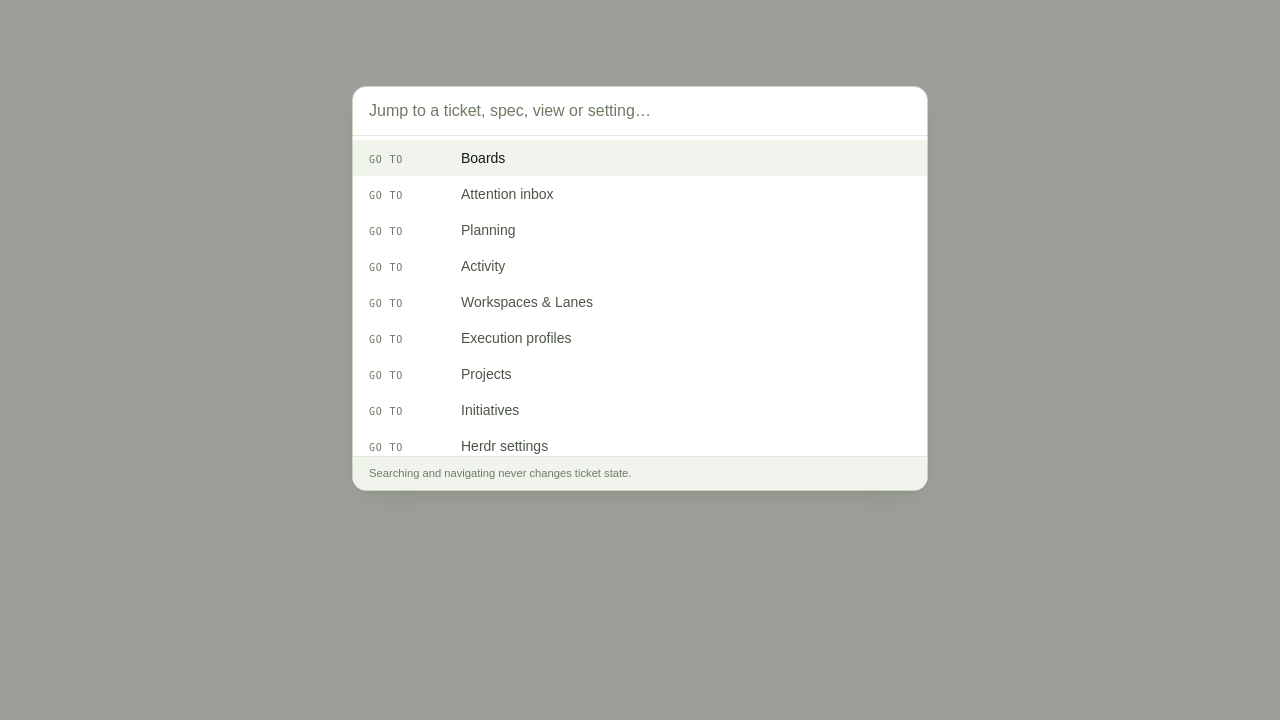
Test: CommandPalette › searches through the palette without issuing commands
This screenshot has width=1280, height=720.
Type "archive" into the search field with test id "palette-query" at (640, 111), box 369,99 -> 911,123
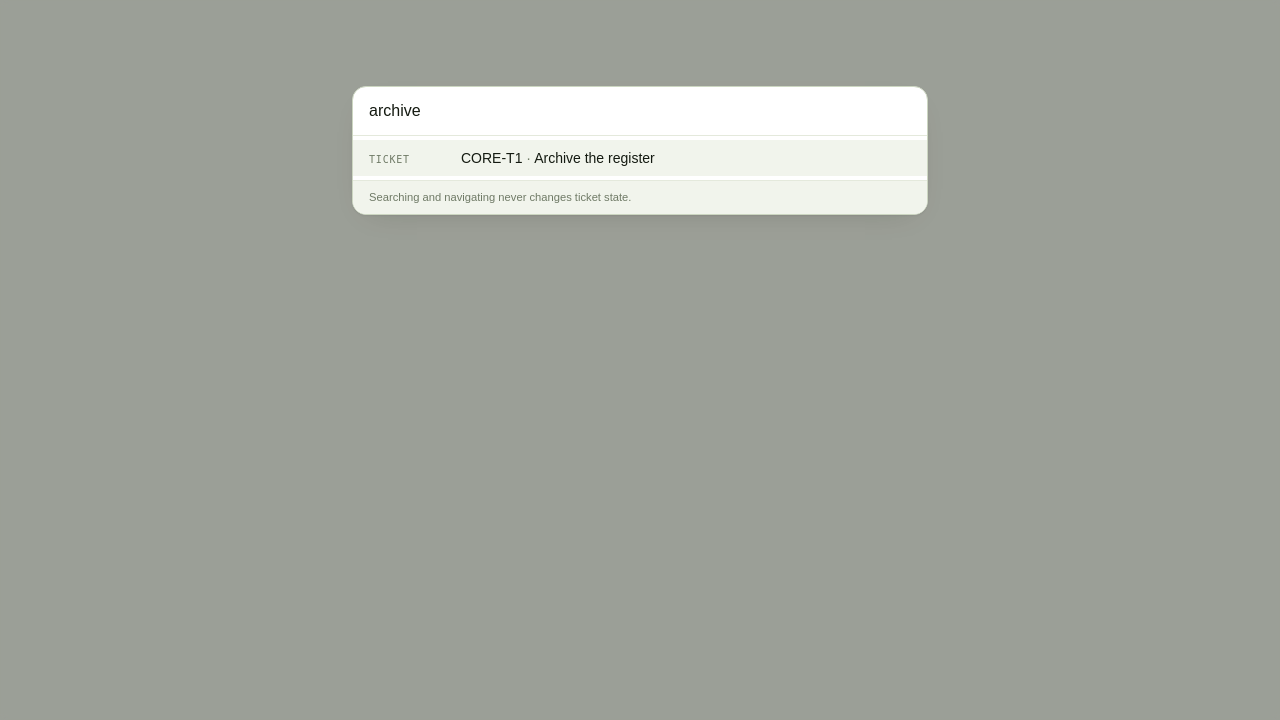
Check: the button with test id "palette-item" is shown, box 353,140 -> 927,176
Check: the text "CORE-T1" is shown, box 461,150 -> 522,166
